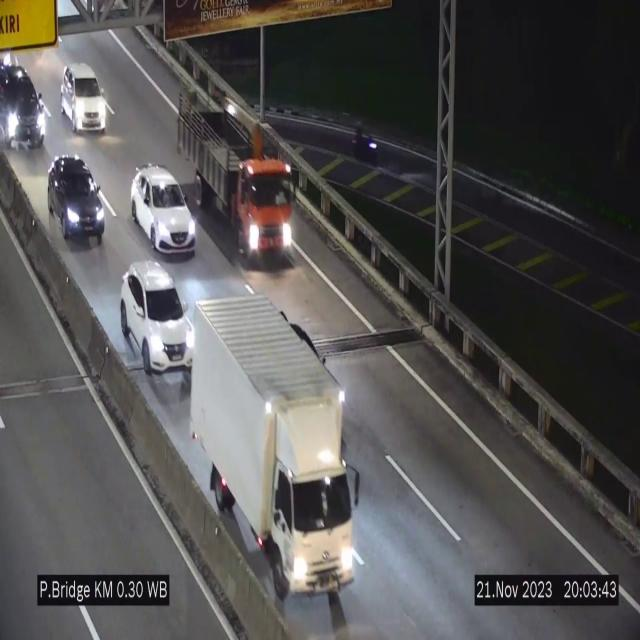Car: (120, 261, 193, 387), (130, 163, 196, 254), (47, 156, 105, 245), (0, 66, 54, 156), (61, 64, 108, 132)
Truck: (188, 294, 362, 604), (178, 89, 295, 266)
